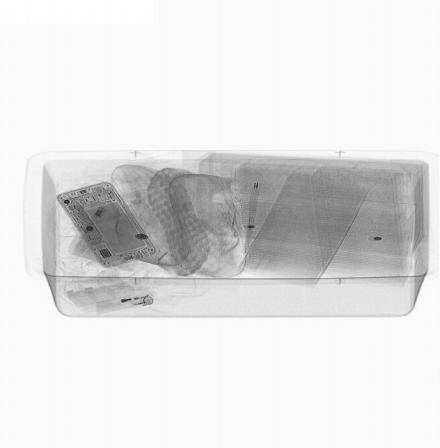Lighter: (93, 292, 157, 315)
